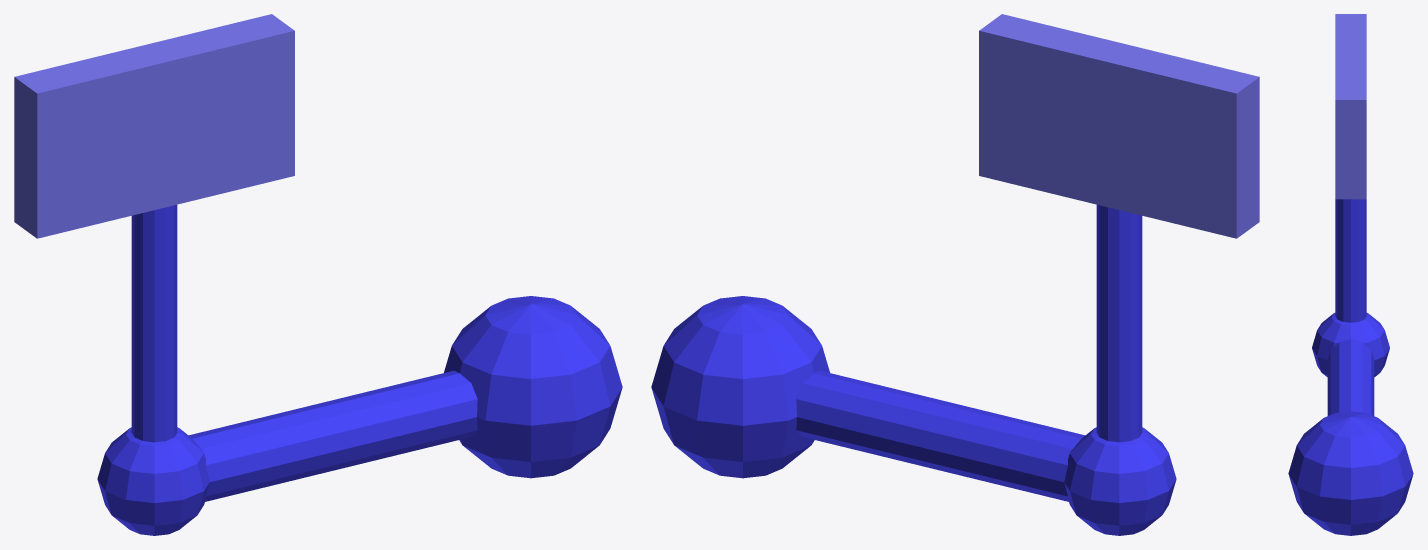
The model's file is mark.dae.
3 views of the same model, side by side, from view 1: azimuth 30°, elevation 25°; view 2: azimuth 150°, elevation 25°; view 3: azimuth 270°, elevation 25° (orthographic). The views are drawn at different scales.
Parts seen in each view (by area): view 1: cube, sphere (×2), cylinder (×2); view 2: cube, sphere (×2), cylinder (×2); view 3: sphere (×2), cylinder (×2), cube.
Part boxes in pixels (x1=…): cube: x1=14, y1=14, x2=294, y2=238; sphere (×2): x1=97, y1=296, x2=622, y2=535; cylinder (×2): x1=131, y1=204, x2=477, y2=501; cube: x1=979, y1=14, x2=1259, y2=238; sphere (×2): x1=651, y1=296, x2=1176, y2=535; cylinder (×2): x1=796, y1=204, x2=1142, y2=501; sphere (×2): x1=1288, y1=313, x2=1413, y2=535; cylinder (×2): x1=1327, y1=199, x2=1374, y2=415; cube: x1=1335, y1=14, x2=1366, y2=199.
Size of the model in its own units: 3.69 by 3.06 by 1.
